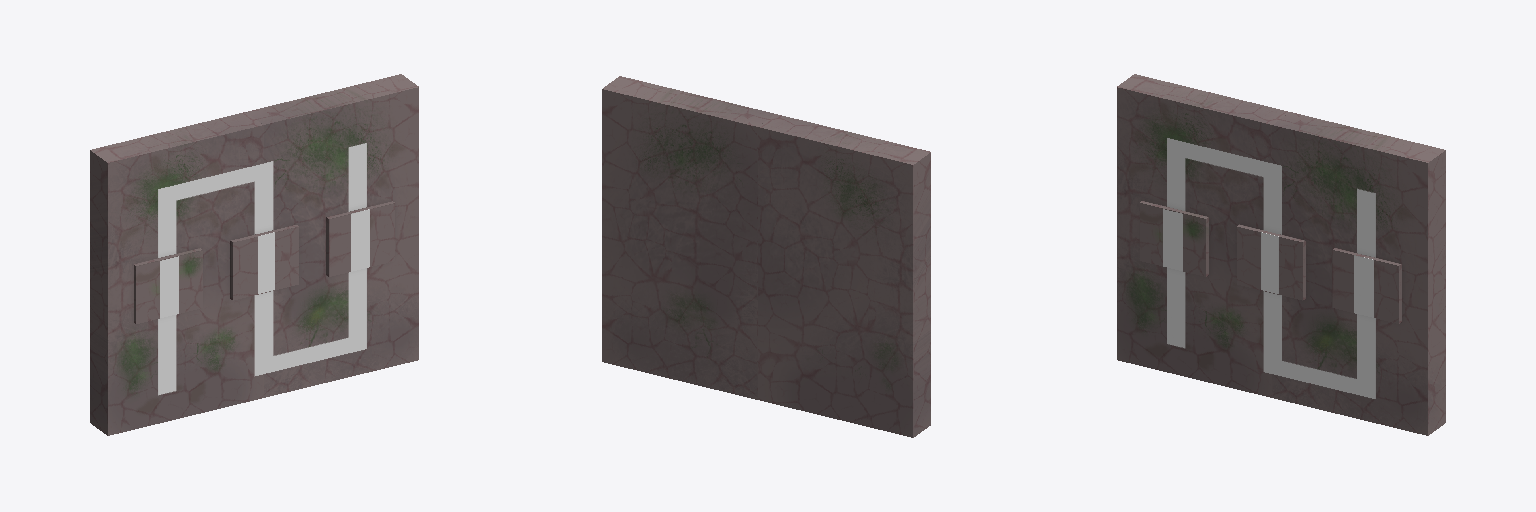
3 views of the same model, side by side, from view 1: azimuth 30°, elevation 25°; view 2: azimuth 150°, elevation 25°; view 3: azimuth 330°, elevation 25° (orthographic).
Visible parts, largest first — view 1: Object001, Plane, Plane.002, Plane.003, Object002, Plane.001; view 2: Object001, Plane; view 3: Plane, Object001, Plane.003, Plane.002, Plane.001, Object002.
Part boxes in pixels (x1,y1,x2,y2): Object001: (90, 112, 263, 435); Plane: (246, 74, 418, 397); Plane.002: (134, 248, 202, 323); Plane.003: (326, 201, 394, 276); Object002: (230, 233, 265, 300); Plane.001: (264, 224, 298, 292); Object001: (758, 114, 930, 437); Plane: (602, 76, 774, 399); Plane: (1272, 112, 1445, 435); Object001: (1117, 74, 1289, 397); Plane.003: (1332, 248, 1401, 323); Plane.002: (1140, 201, 1208, 276); Plane.001: (1270, 233, 1305, 300); Object002: (1237, 224, 1271, 292).
Bounding box in the file's own units: 849 × 711 × 97.18.
Materials: 1 (1 with a texture image).